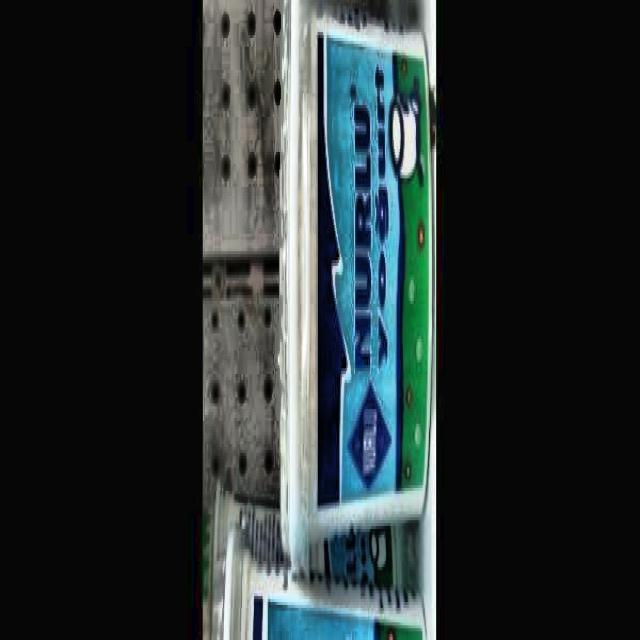plastic: (280, 0, 435, 575)
